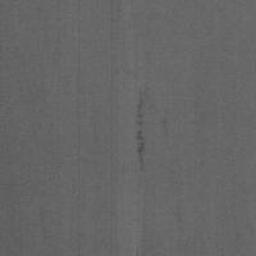Inclusion: (136, 130, 145, 171), (137, 98, 144, 119), (162, 118, 168, 136)
